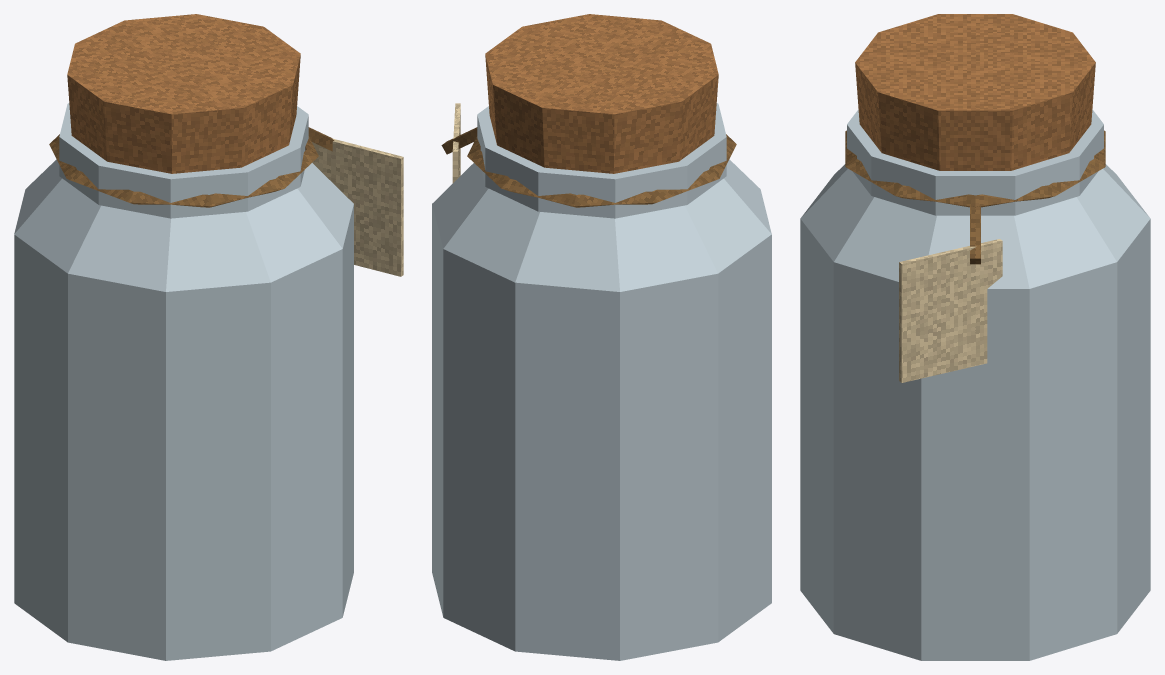
Rendered from 08-laugh-jar.glb.
3 views of the same model, side by side, from view 1: azimuth 30°, elevation 25°; view 2: azimuth 150°, elevation 25°; view 3: azimuth 270°, elevation 25° (orthographic).
Parts seen in each view (by area): view 1: Jar, Cork, Shoulder, Neck.001, Tag, Twine; view 2: Jar, Cork, Shoulder, Neck.001, Twine, Tag; view 3: Jar, Cork, Shoulder, Tag, Neck.001, Twine, Tag string.
Part boxes in pixels (x1,y1,x2,y2): Jar: (14,204,353,660); Cork: (67,14,300,173); Shoulder: (14,159,353,291); Neck.001: (59,103,308,218); Tag: (312,138,403,276); Twine: (49,134,318,207); Jar: (432,204,771,660); Cork: (485,14,718,173); Shoulder: (432,159,771,291); Neck.001: (477,103,726,218); Twine: (467,134,736,207); Tag: (452,103,460,183); Jar: (800,219,1150,660); Cork: (855,14,1095,170); Shoulder: (800,164,1150,288); Tag: (899,239,1002,382); Neck.001: (847,109,1103,215); Twine: (845,130,1105,207); Tag string: (970,206,980,264).
Bounding box in the file's own units: 0.1388 × 0.213 × 0.128.
Materials: 5 (4 with a texture image).
